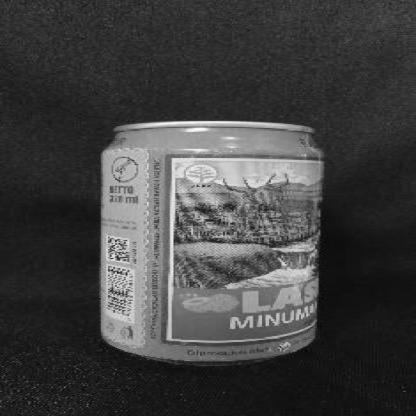alumunium_can: (100, 120, 326, 366)
